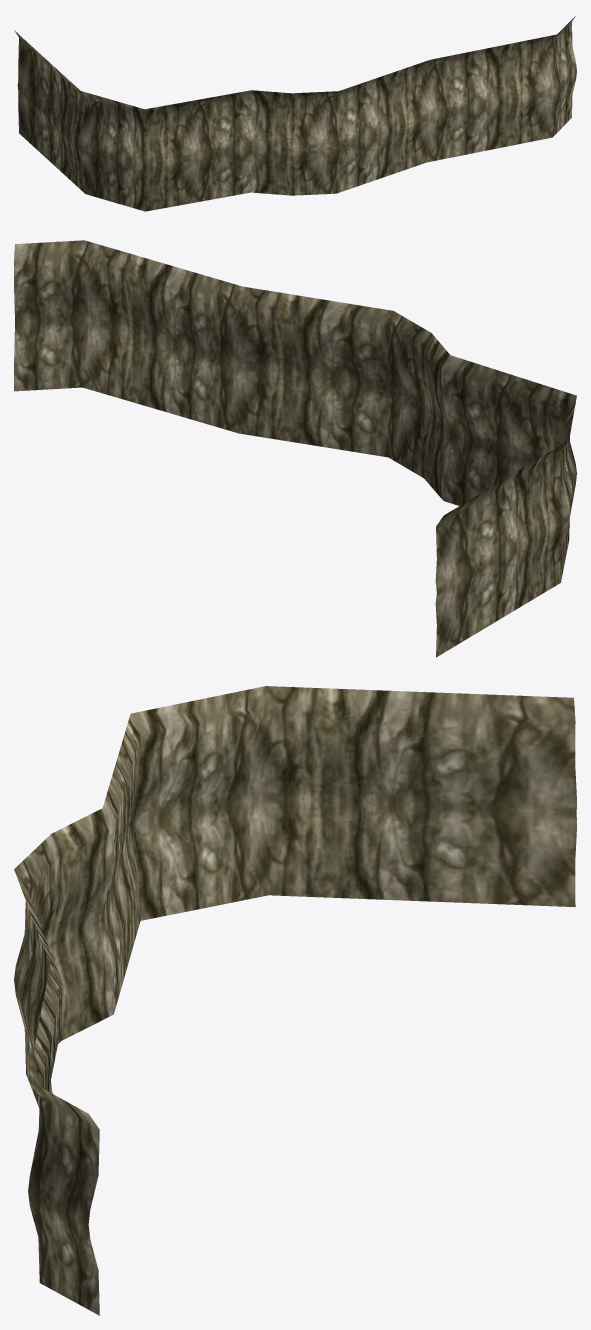
The model's file is CB_NEWPLAYSURFACE_CB_PLAYSURFACE113.fbx.
3 views of the same model, one above another, from view 1: azimuth 30°, elevation 25°; view 2: azimuth 150°, elevation 25°; view 3: azimuth 270°, elevation 25° (orthographic). The views are drawn at different scales.
Parts seen in each view (by area): view 1: CB_NEWPLAYSURFACE_CB_PLAYSURFACE113; view 2: CB_NEWPLAYSURFACE_CB_PLAYSURFACE113; view 3: CB_NEWPLAYSURFACE_CB_PLAYSURFACE113.
Part boxes in pixels (box(x1,y1,x2,y2)): CB_NEWPLAYSURFACE_CB_PLAYSURFACE113: box(14, 16, 576, 211); CB_NEWPLAYSURFACE_CB_PLAYSURFACE113: box(14, 240, 576, 657); CB_NEWPLAYSURFACE_CB_PLAYSURFACE113: box(14, 686, 576, 1315).
Bounding box in the file's own units: 330194 × 73541 × 183697.
Materials: 1 (1 with a texture image).
